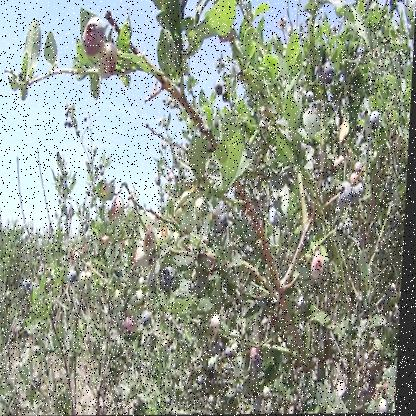intermediate: (137, 230, 161, 266), (111, 197, 126, 225), (316, 254, 329, 280), (129, 318, 142, 340), (255, 348, 265, 364)
mature: (83, 18, 107, 57), (343, 180, 356, 208), (357, 177, 368, 207), (325, 63, 337, 84), (372, 112, 383, 131), (303, 90, 316, 105), (146, 311, 157, 327), (357, 161, 366, 175)
young: (98, 44, 120, 82), (177, 193, 198, 230), (196, 198, 209, 221), (397, 138, 410, 158), (84, 269, 97, 287), (214, 314, 227, 332), (72, 270, 83, 285)
